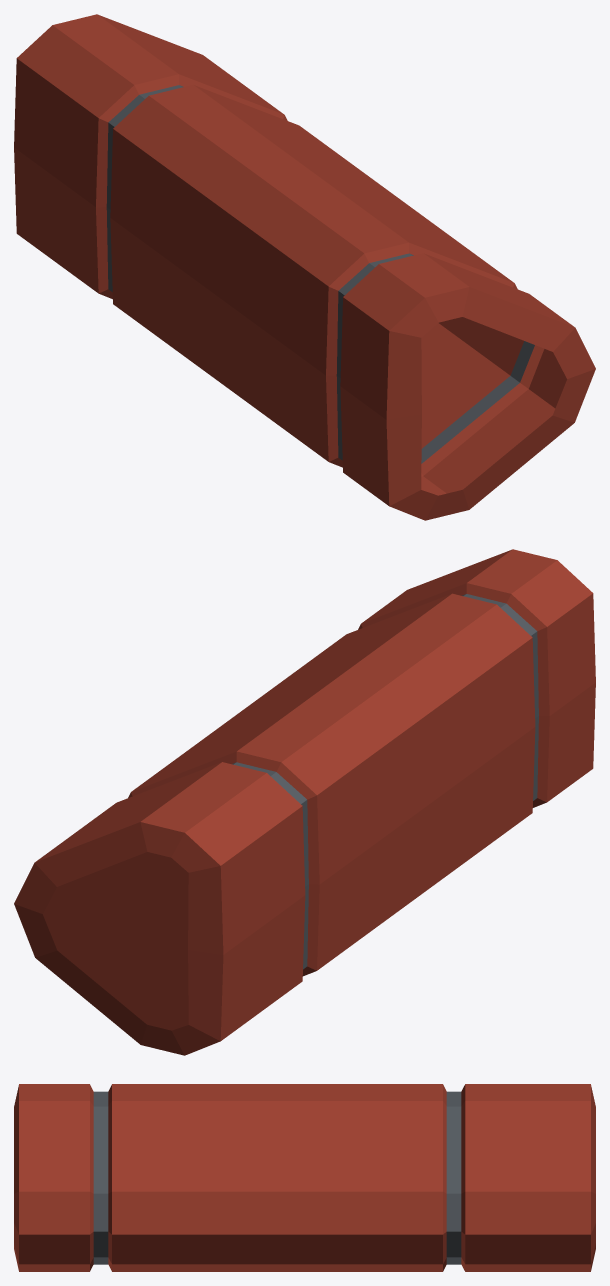
File: Mothership_02_Thrust_Struts_Red.fbx
3 views of the same model, one above another, from view 1: azimuth 30°, elevation 25°; view 2: azimuth 150°, elevation 25°; view 3: azimuth 270°, elevation 25° (orthographic). The views are drawn at different scales.
Parts seen in each view (by area): view 1: Mothership_02_Thrust_Struts_Red; view 2: Mothership_02_Thrust_Struts_Red; view 3: Mothership_02_Thrust_Struts_Red.
Part boxes in pixels (left/top/right/bottom): Mothership_02_Thrust_Struts_Red: left=14, top=14, right=595, bottom=520; Mothership_02_Thrust_Struts_Red: left=14, top=549, right=595, bottom=1055; Mothership_02_Thrust_Struts_Red: left=14, top=1084, right=595, bottom=1271.
Size of the model in its own units: 400 by 407 by 1255.
Materials: 1 (1 with a texture image).
